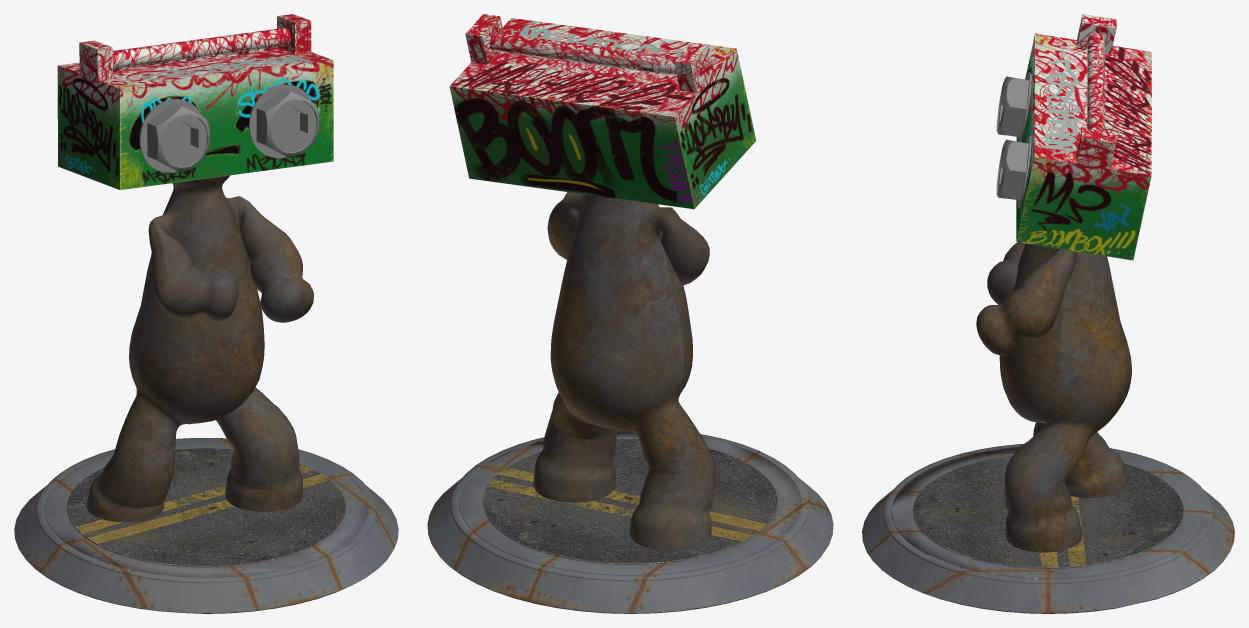
3 views of the same model, side by side, from view 1: azimuth 30°, elevation 25°; view 2: azimuth 150°, elevation 25°; view 3: azimuth 270°, elevation 25° (orthographic). The views are drawn at different scales.
Parts seen in each view (by area): view 1: BBody; view 2: BBody; view 3: BBody.
Part boxes in pixels (x1=…): BBody: x1=14, y1=14, x2=398, y2=613; BBody: x1=427, y1=14, x2=833, y2=613; BBody: x1=862, y1=14, x2=1234, y2=613.
Bounding box in the file's own units: 1.45 × 2.05 × 1.45.
5 materials, 4 textured.
